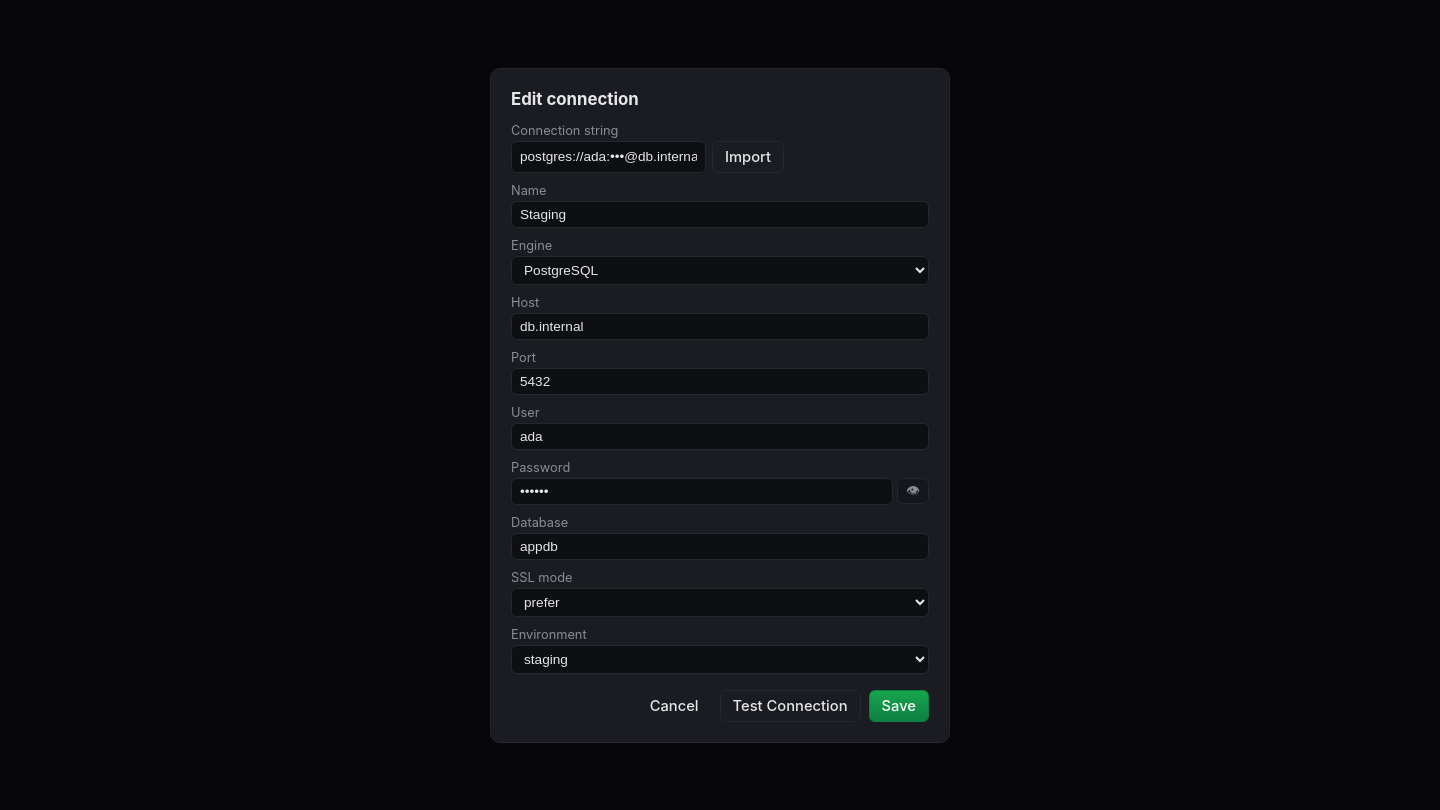
Scenario: ConnectionModal › importing a masked ••• password never overwrites the real one (S2.9)
Replace the text in the field named "connection url" with "postgres://ada:•••@db2.internal:5432/appdb" at (608, 156), box [511,140,706,172]
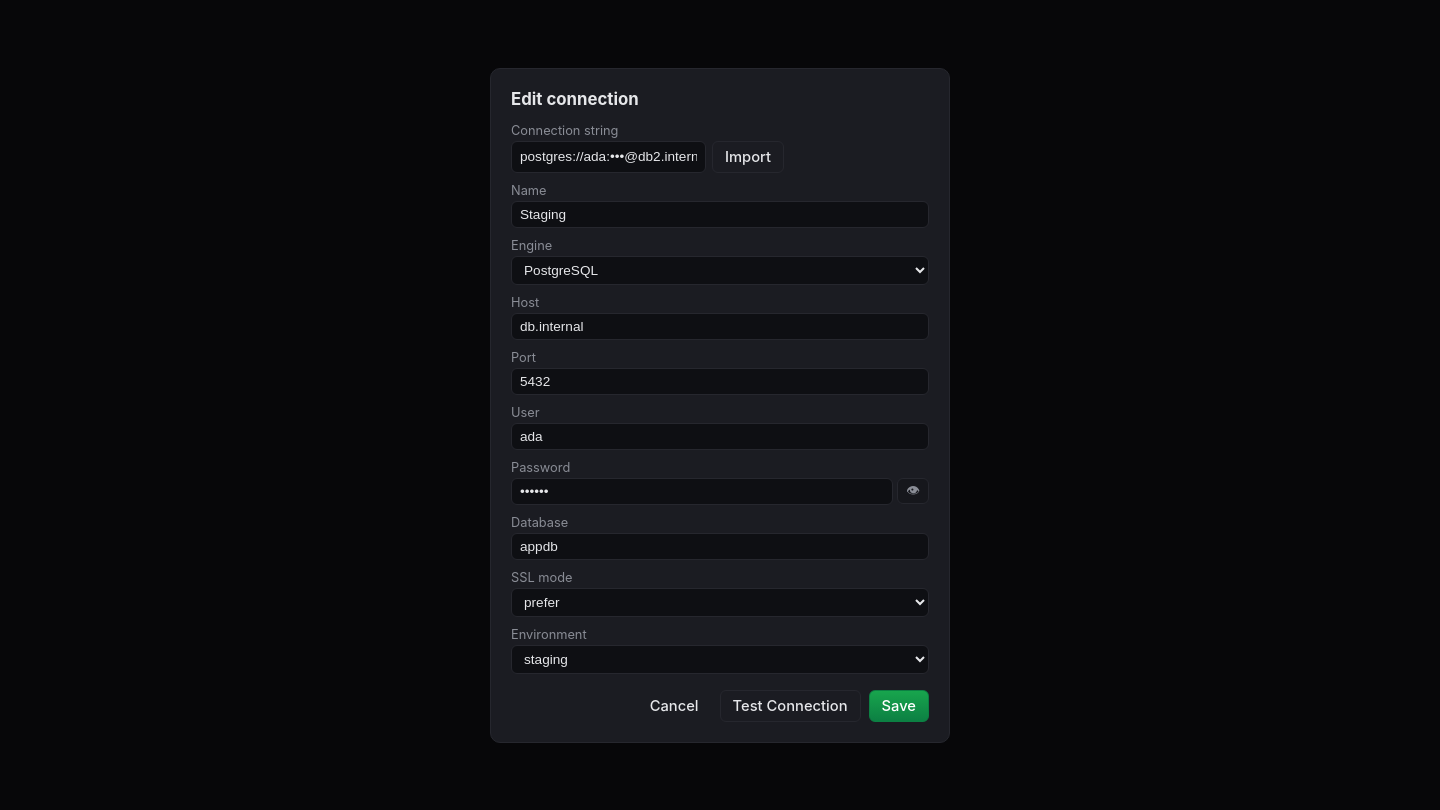
Click the button "Import" at (748, 156), box [712,140,784,172]
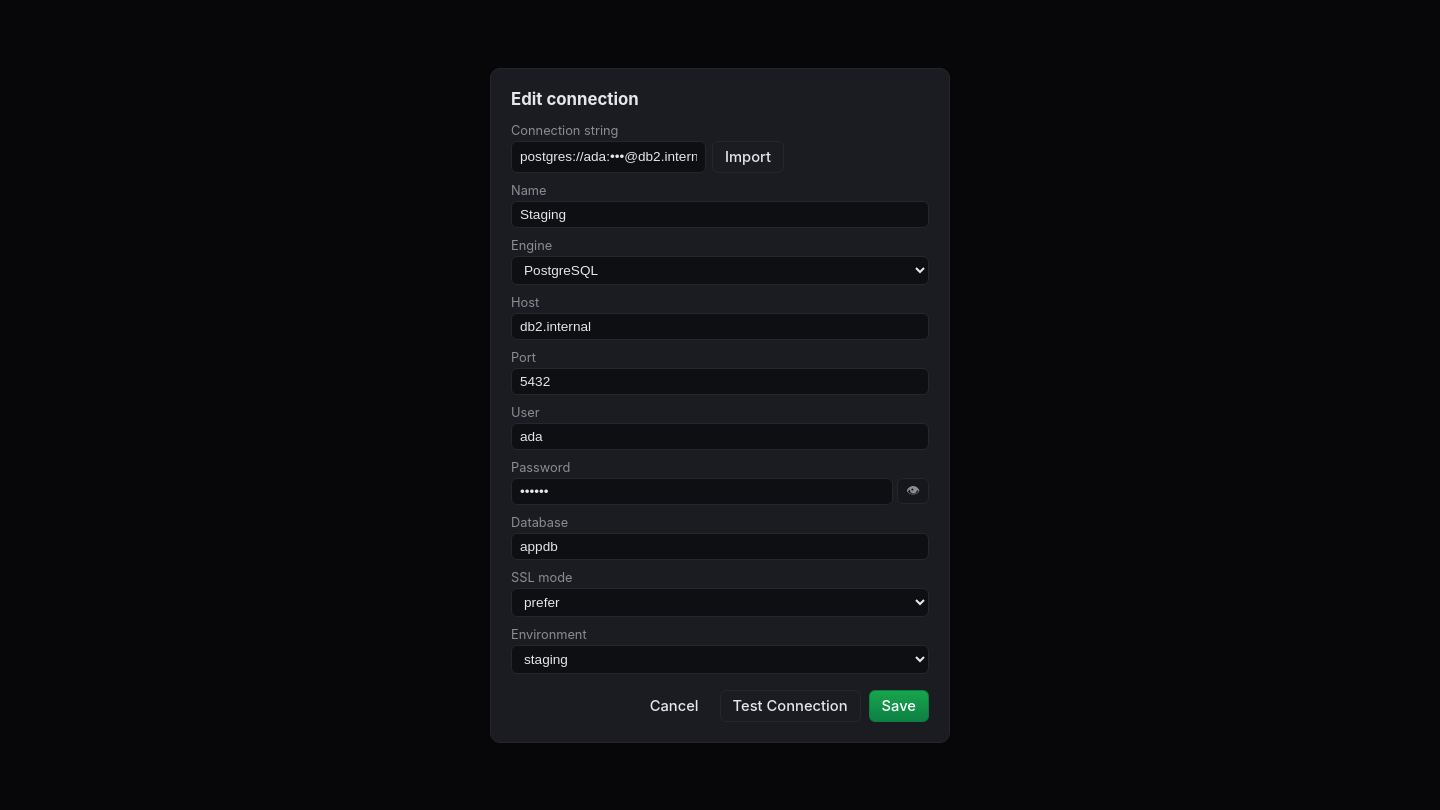
Check: the password field labelled "Password" holds "s3cret", box [511,478,893,504]
Check: the field labelled "Host" holds "db2.internal", box [511,312,929,340]
